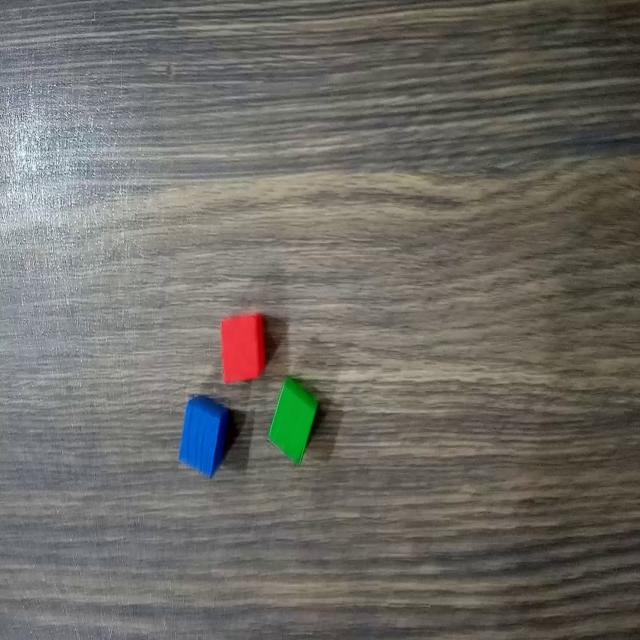cube: (265, 373, 322, 471), (175, 387, 230, 480), (218, 308, 269, 387)
